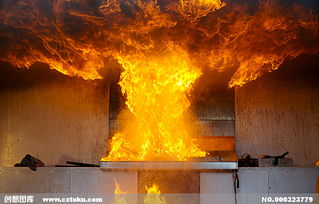fire: (4, 5, 310, 154), (110, 176, 131, 201), (143, 182, 166, 204)
